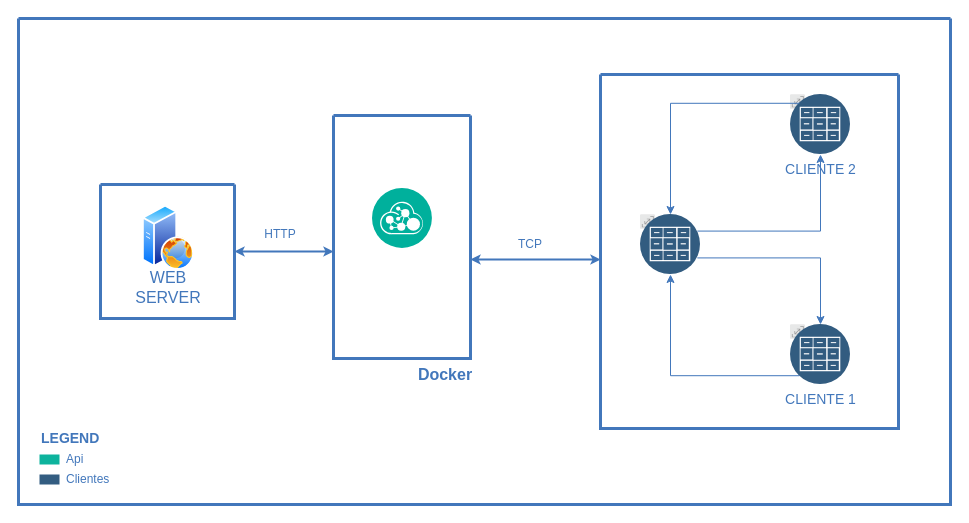
Some shapes in this 969 by 523 pixel diagram are drawn without their labels. The shapes that lost their labels are listed below. From the top down, each one's centre as x and y in pixels, then its label:
point (402, 218): API MANAGEMENT
point (670, 244): SERVIDOR
